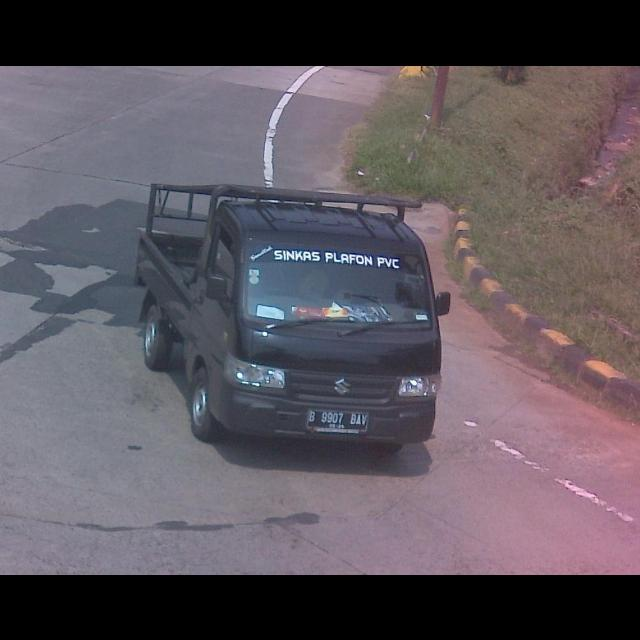plate: (307, 406, 369, 436)
